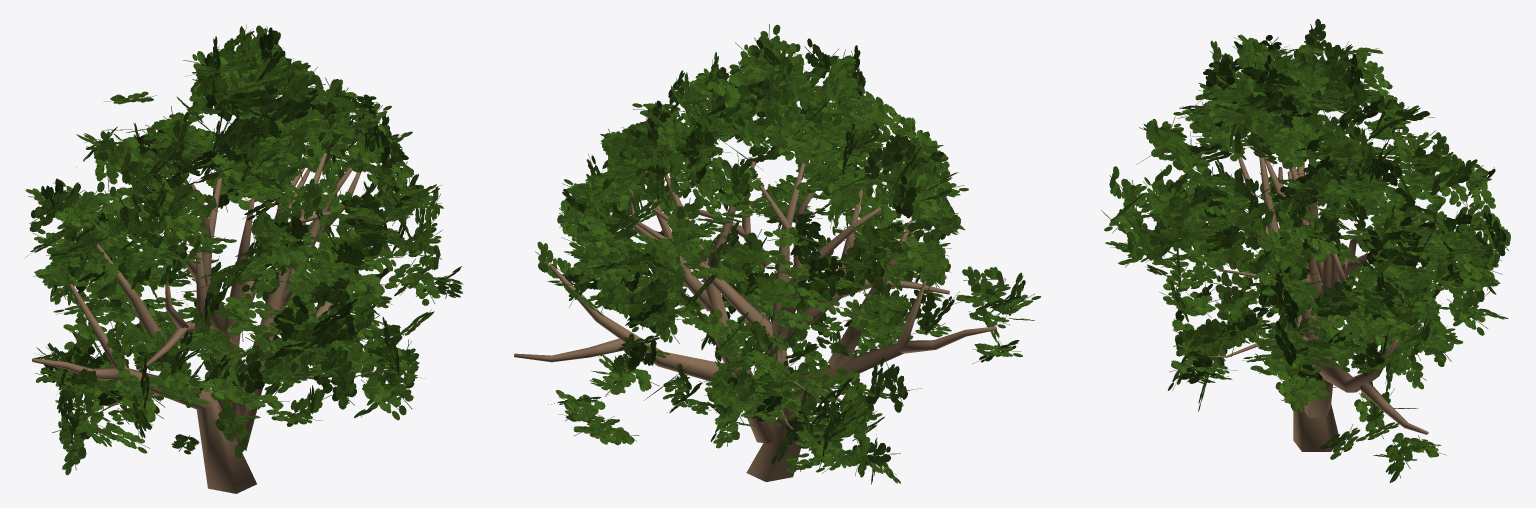
The model's file is near.glb.
3 views of the same model, side by side, from view 1: azimuth 30°, elevation 25°; view 2: azimuth 150°, elevation 25°; view 3: azimuth 270°, elevation 25° (orthographic). The views are drawn at different scales.
Visible parts, largest first — view 1: foliage, bark; view 2: foliage, bark; view 3: foliage, bark.
Boxes of the visible parts, box(x1,y1,x2,y2) form: foliage: box(25, 24, 463, 475); bark: box(32, 153, 381, 493); foliage: box(535, 24, 1040, 484); bark: box(514, 161, 996, 481); foliage: box(1101, 19, 1510, 483); bark: box(1193, 152, 1428, 451).
Size of the model in its own units: 22.63 by 21.89 by 20.47.
2 materials, 1 textured.
